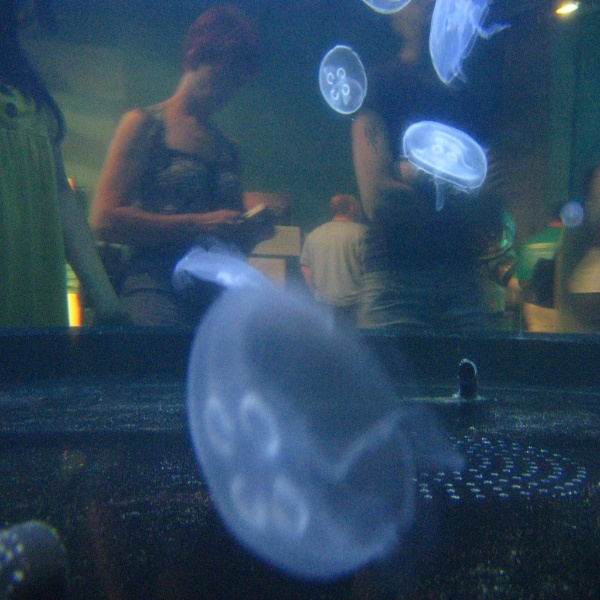Jellyfish: (173, 247, 461, 581), (405, 109, 493, 205), (431, 0, 496, 81), (318, 44, 369, 119)
